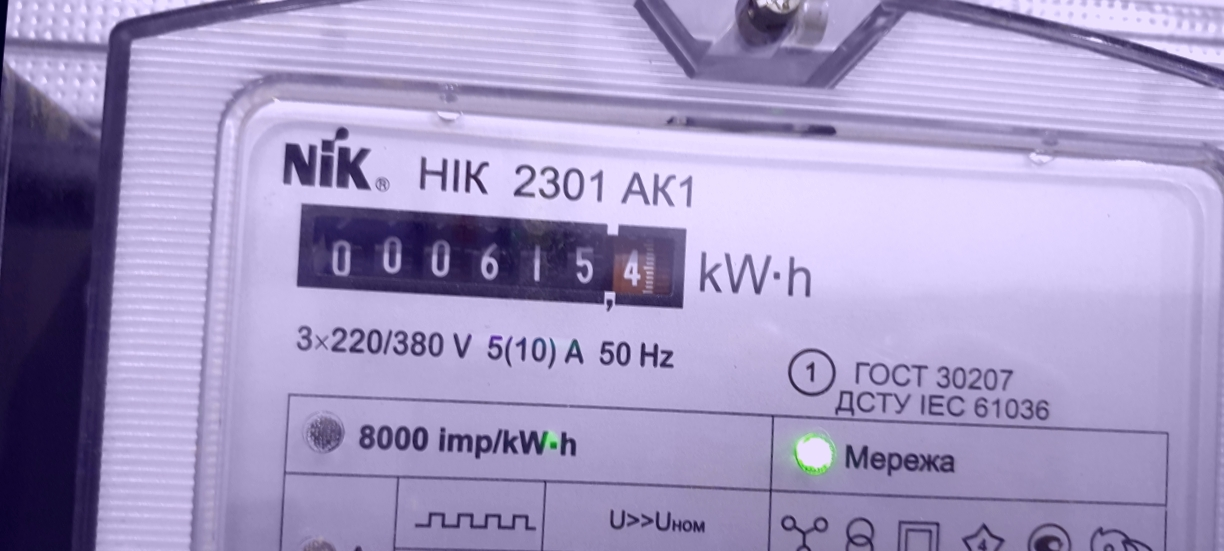0: (425, 235, 454, 279), (326, 234, 355, 277), (378, 232, 404, 273)
1: (528, 240, 545, 283)
4: (620, 245, 642, 287)
5: (570, 241, 597, 285)
6: (475, 238, 502, 281)
screen: (279, 183, 702, 330)
